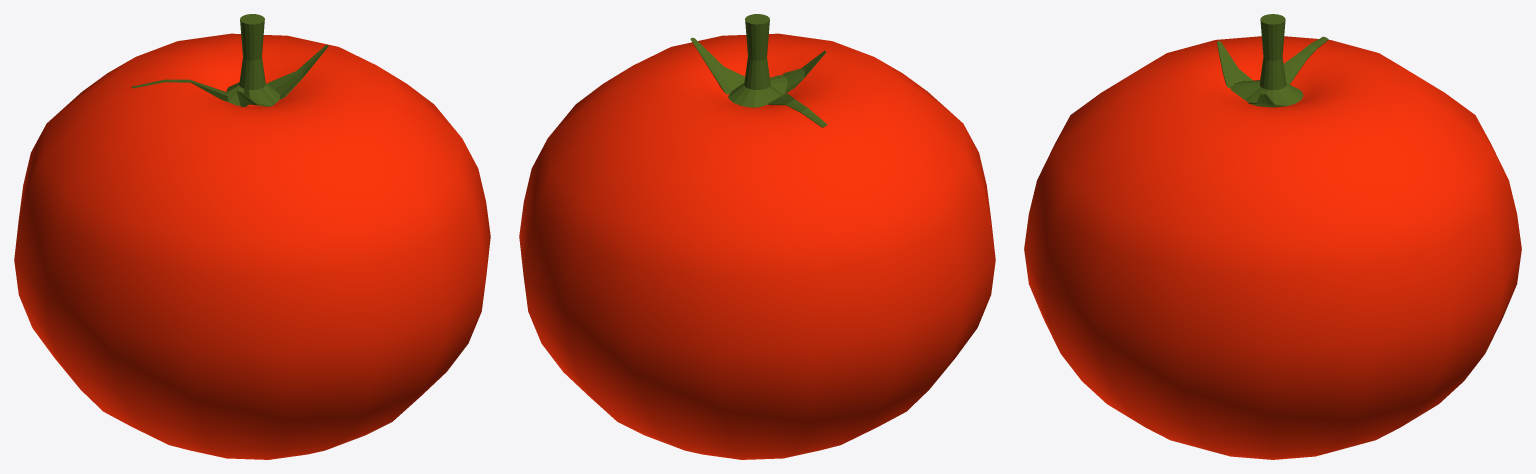
File: Tomato.fbx
3 views of the same model, side by side, from view 1: azimuth 30°, elevation 25°; view 2: azimuth 150°, elevation 25°; view 3: azimuth 270°, elevation 25° (orthographic).
Parts seen in each view (by area): view 1: Sphere, Cylinder; view 2: Sphere, Cylinder; view 3: Sphere, Cylinder.
Boxes of the visible parts, x1,y1,x2,y2 form: Sphere: (14,33,490,459); Cylinder: (131,14,328,106); Sphere: (519,33,995,459); Cylinder: (690,14,827,127); Sphere: (1024,36,1521,459); Cylinder: (1216,14,1328,107).
Bounding box in the file's own units: 405 × 381 × 422.
